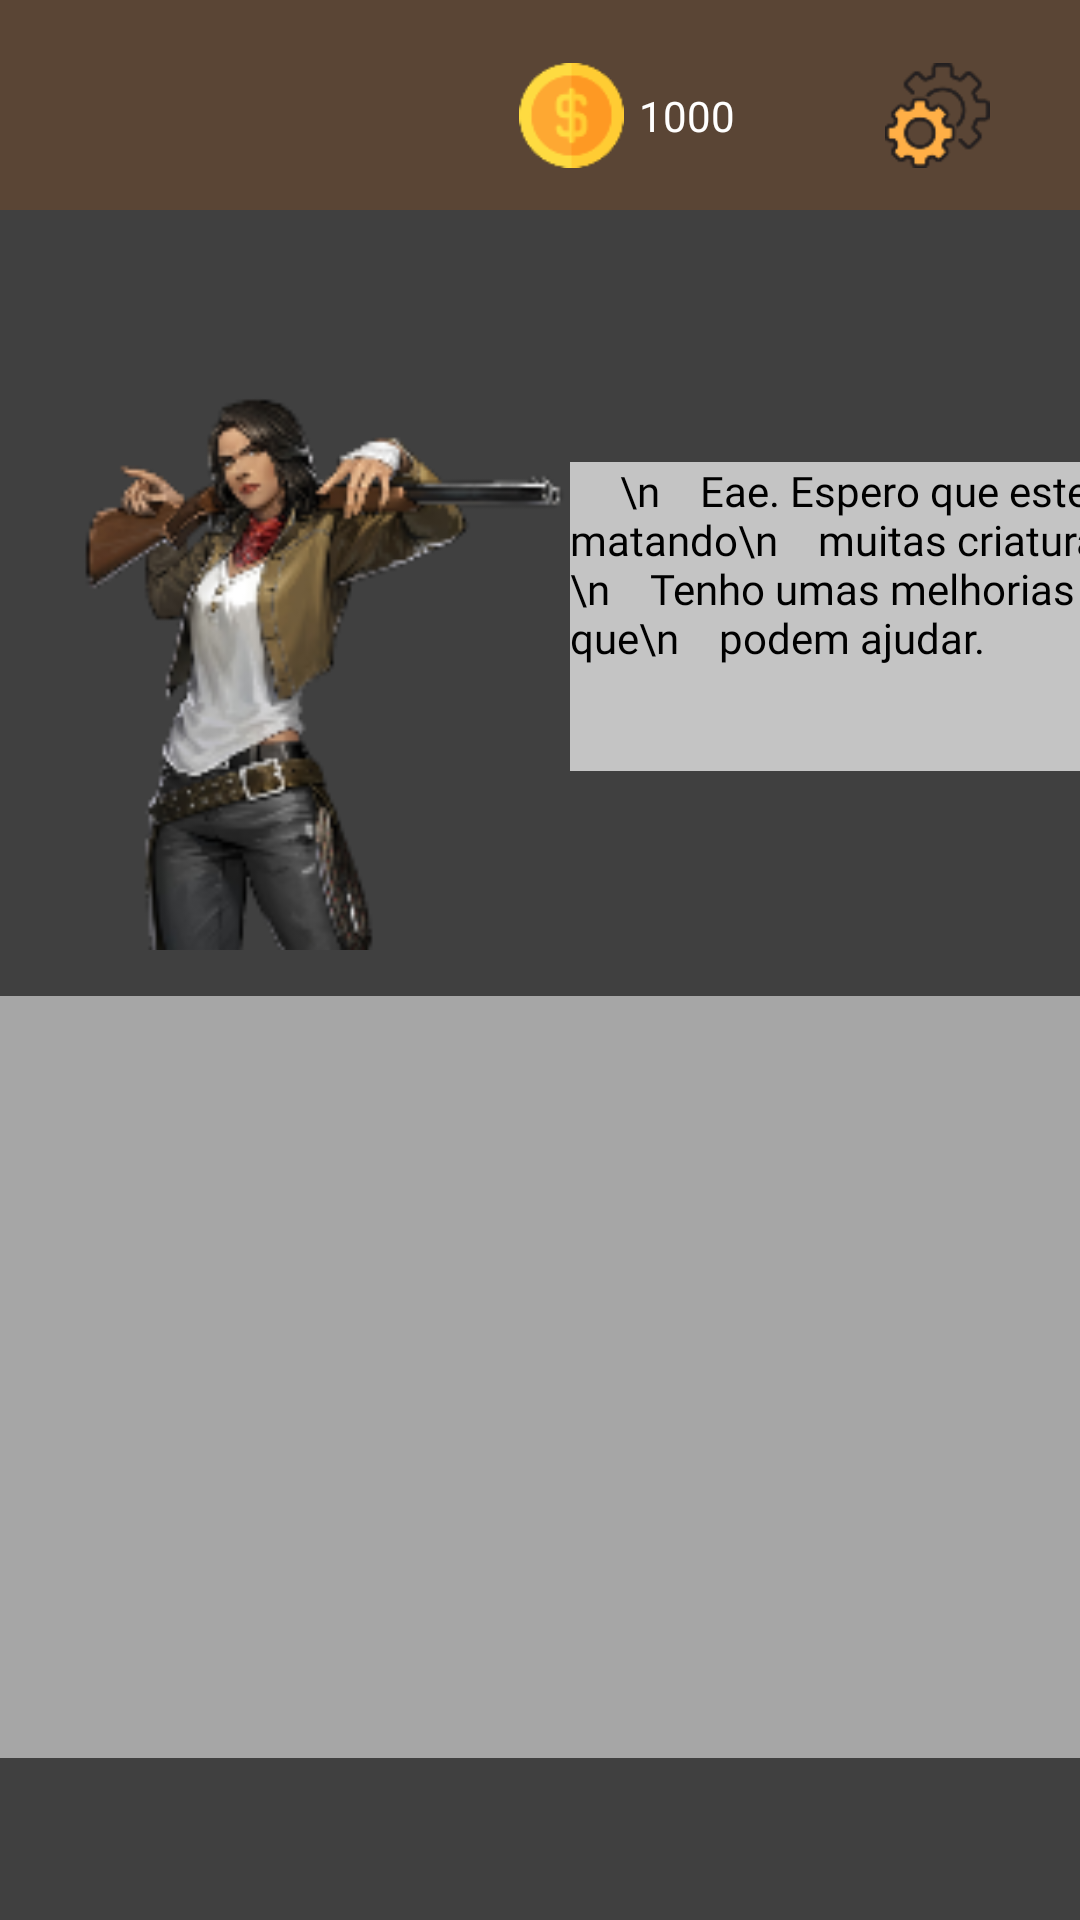

Icons on this 1080x1920 Android screen, each with the point to tap as (x=x, y=y):
config: (x=937, y=115)
moeda: (x=571, y=115)
